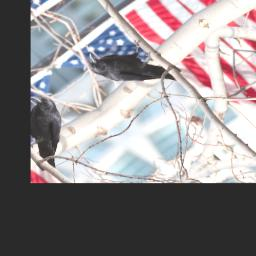Crow: (79, 26, 185, 112)
